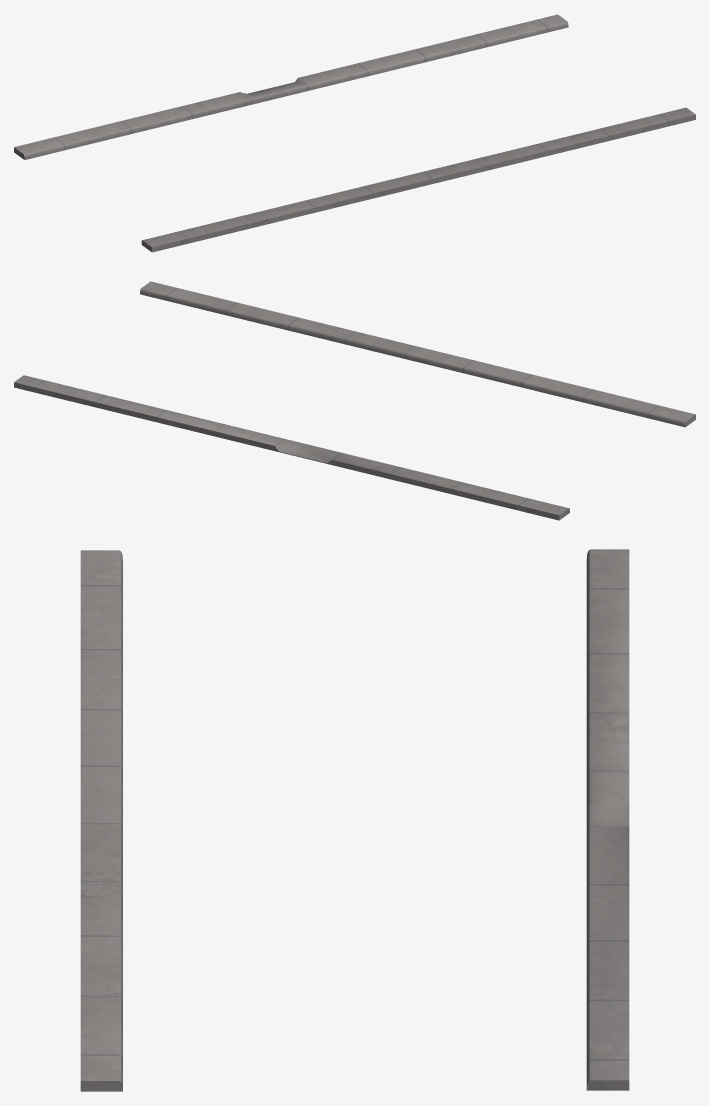
Rendered from Long_SideWalks_W_Slope.fbx.
3 views of the same model, one above another, from view 1: azimuth 30°, elevation 25°; view 2: azimuth 150°, elevation 25°; view 3: azimuth 270°, elevation 25° (orthographic). The views are drawn at different scales.
Parts seen in each view (by area): view 1: Long_SideWalks_W_Single_Slope; view 2: Long_SideWalks_W_Single_Slope; view 3: Long_SideWalks_W_Single_Slope.
Part boxes in pixels (box(x1,y1,x2,y2)): Long_SideWalks_W_Single_Slope: box(14, 14, 695, 252); Long_SideWalks_W_Single_Slope: box(14, 281, 695, 520); Long_SideWalks_W_Single_Slope: box(80, 549, 629, 1091).
Bounding box in the file's own units: 1301 × 568 × 12.
